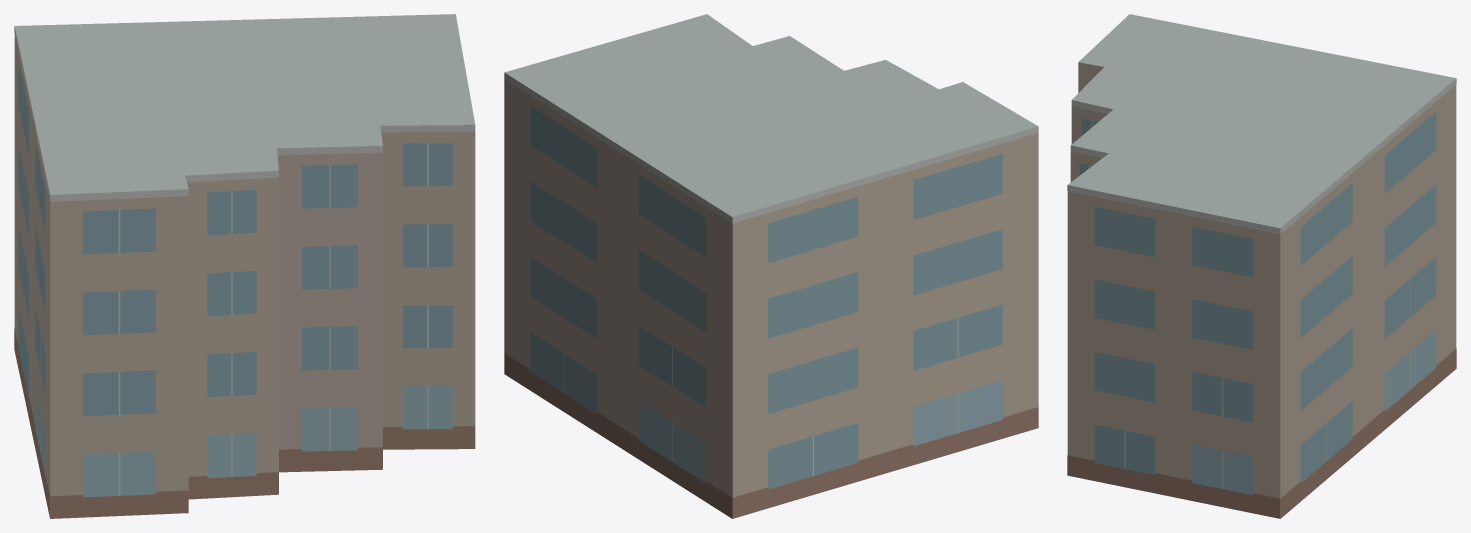
File: survey-upis-32777904.glb
3 renders of one model, left to right at view 1: azimuth 30°, elevation 25°; view 2: azimuth 150°, elevation 25°; view 3: azimuth 270°, elevation 25°, orthographic. The views are drawn at different scales.
Parts seen in each view (by area): view 1: survey-upis-32777904.tmp; view 2: survey-upis-32777904.tmp; view 3: survey-upis-32777904.tmp.
Boxes of the visible parts, <box> form: survey-upis-32777904.tmp: <box>14,14,475,518</box>; survey-upis-32777904.tmp: <box>504,14,1038,518</box>; survey-upis-32777904.tmp: <box>1067,14,1456,518</box>.
Size of the model in its own units: 18.2 by 11.5 by 13.96.
